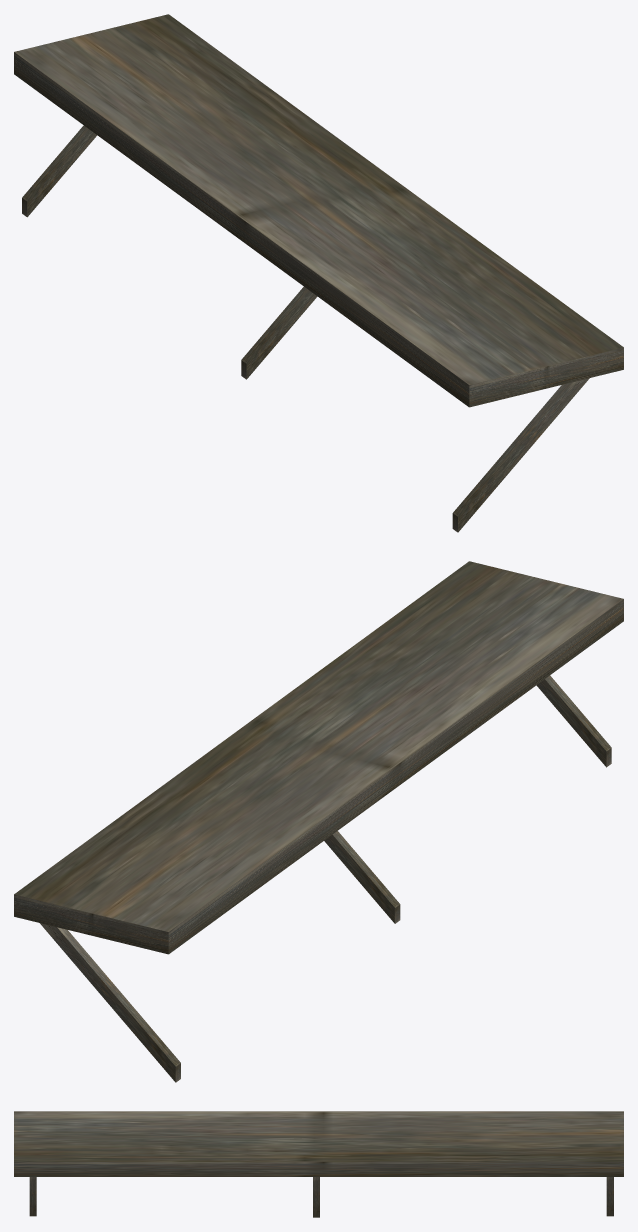
File: shelf.glb
The picture shows the model from 3 angles, top to bottom: view 1: azimuth 30°, elevation 25°; view 2: azimuth 150°, elevation 25°; view 3: azimuth 270°, elevation 25°; orthographic projection. The views are drawn at different scales.
Visible parts, largest first — view 1: shelf.ms3d.mo; view 2: shelf.ms3d.mo; view 3: shelf.ms3d.mo.
Boxes of the visible parts, bbox=[...] form: shelf.ms3d.mo: bbox=[14, 14, 623, 532]; shelf.ms3d.mo: bbox=[14, 561, 623, 1082]; shelf.ms3d.mo: bbox=[14, 1111, 623, 1217].
Bounding box in the file's own units: 10.19 × 9.95 × 51.91.
1 material, 1 textured.
